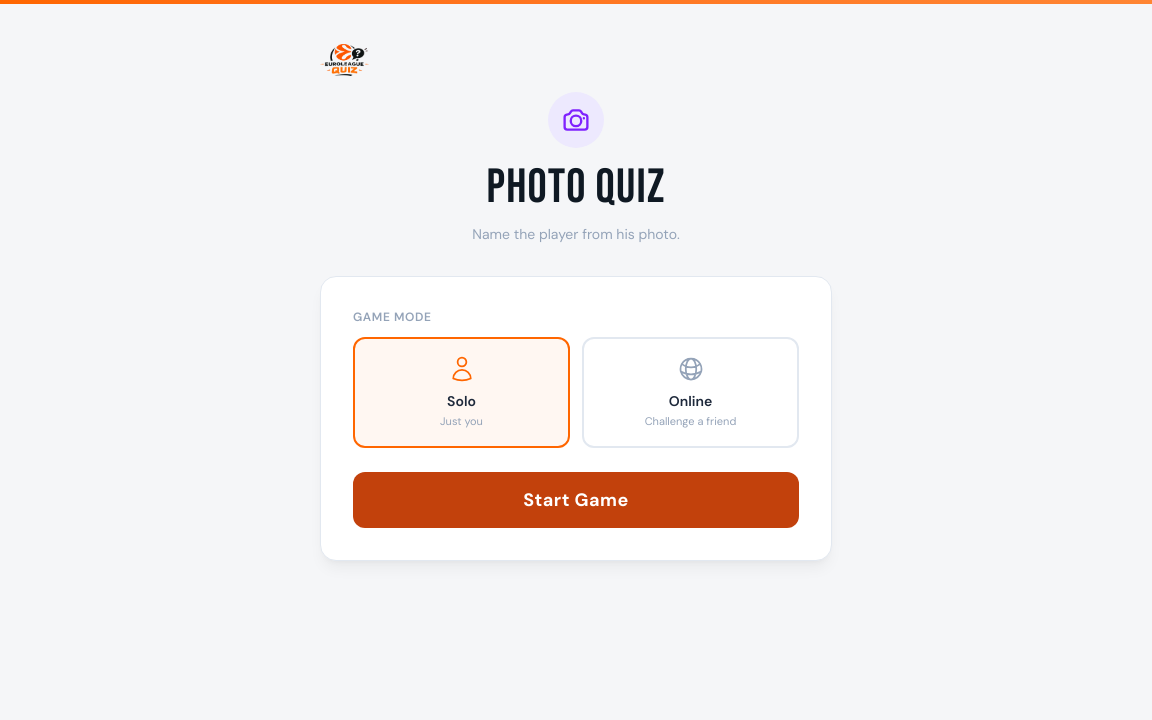
Test: PhotoQuizSetup › defaults Online to the Quick Match preset picker
Click the text "Online" at (690, 401), box top-left (669, 392), bottom-right (712, 410)
(page scrolled)
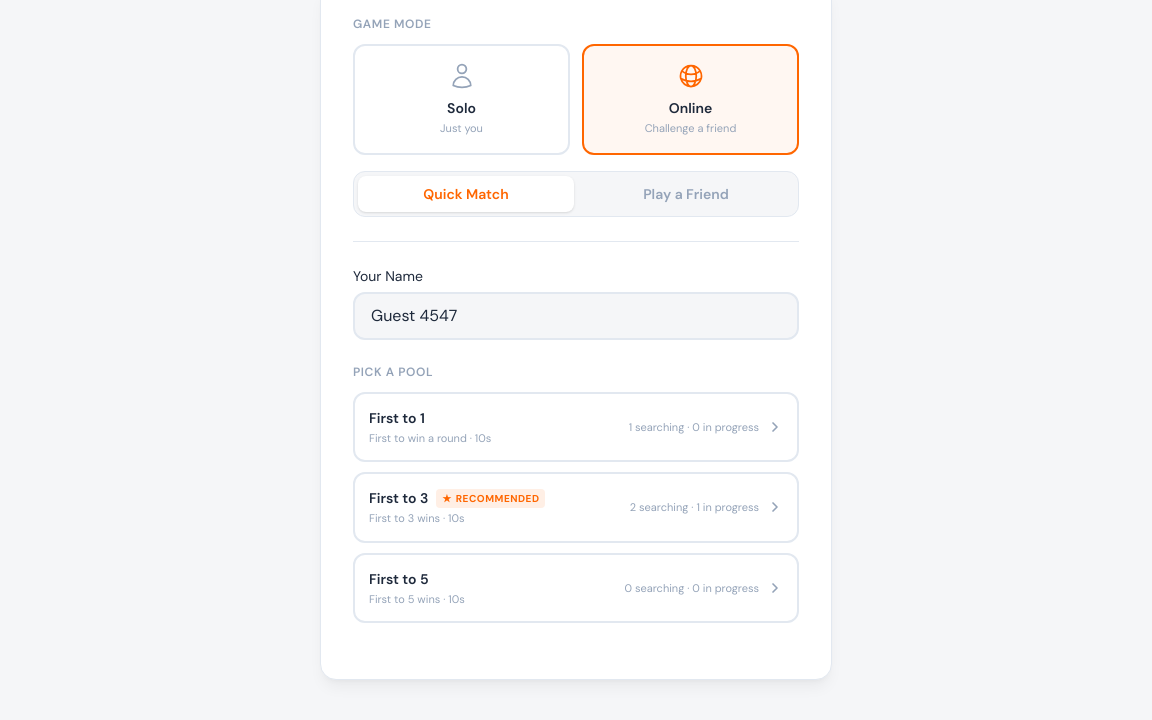
Expected: the button "Quick Match" is shown, top-left (358, 176), bottom-right (574, 212)
Expected: the button "Play a Friend" is shown, top-left (578, 176), bottom-right (794, 212)
Expected: the text "First to 1" is shown, top-left (369, 408), bottom-right (425, 428)
